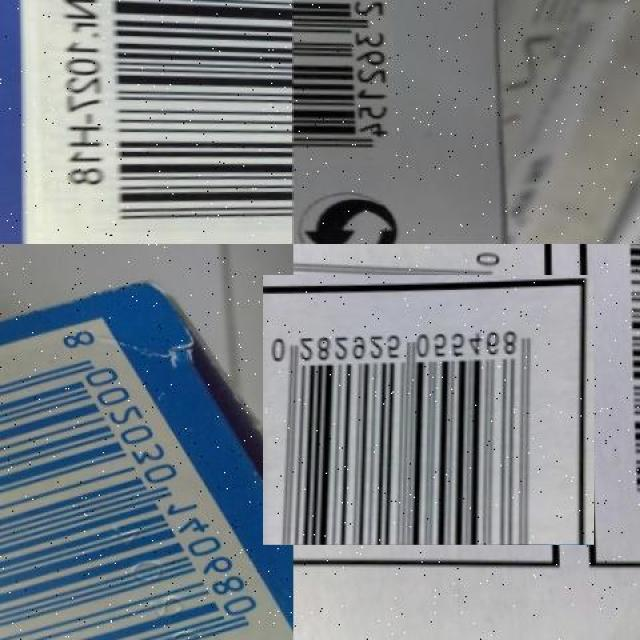Barcode: (0, 311, 293, 640), (278, 260, 578, 560), (22, 0, 294, 244), (293, 0, 410, 170)
